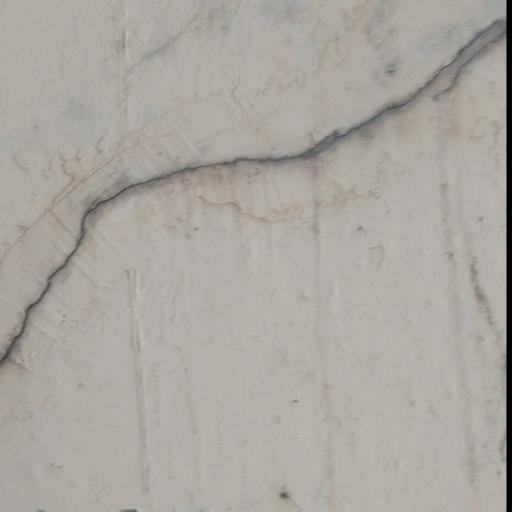major_crack: (0, 14, 506, 400)
